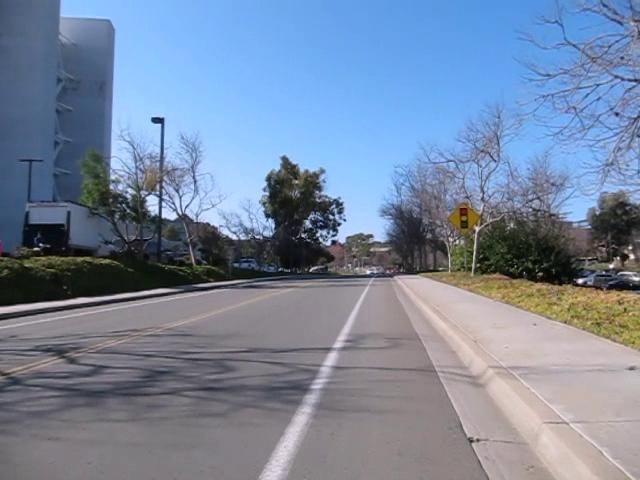signalAhead: (446, 200, 481, 235)
